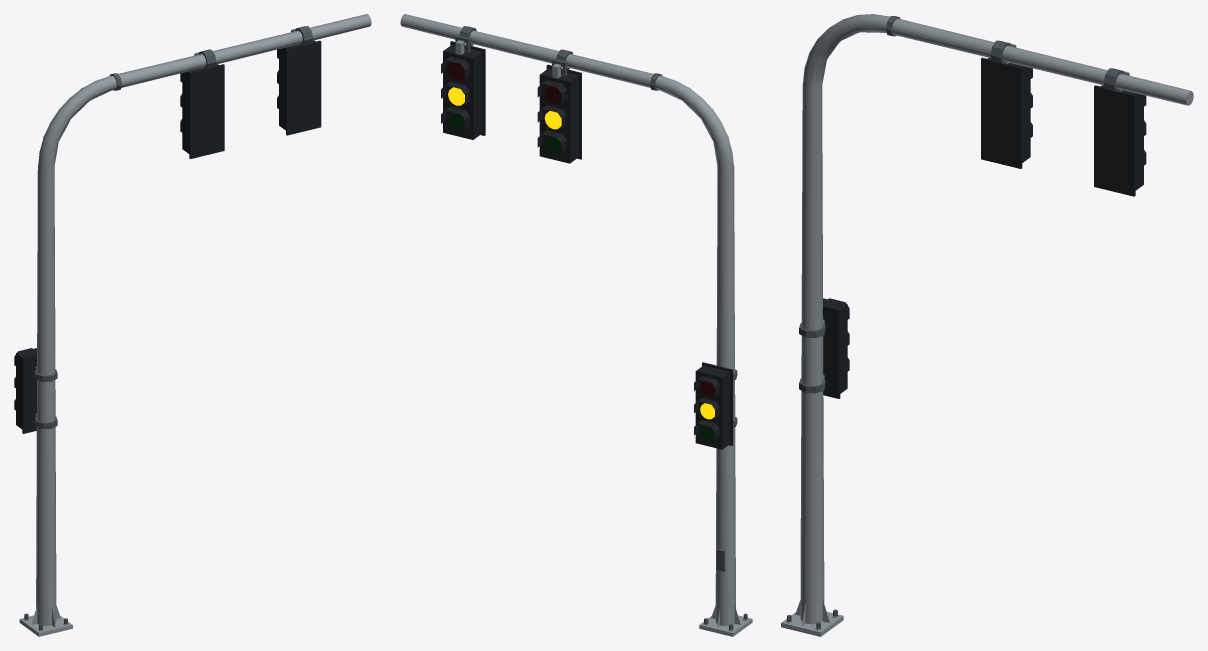
File: traffic-signal-gantry.glb
The picture shows the model from 3 angles, left to right: view 1: azimuth 30°, elevation 25°; view 2: azimuth 150°, elevation 25°; view 3: azimuth 330°, elevation 25°; orthographic projection. The views are drawn at different scales.
Parts seen in each view (by area): view 1: traffic-signal-gantry (×2); view 2: traffic-signal-gantry (×2); view 3: traffic-signal-gantry (×2).
Part boxes in pixels (x1,y1,x2,y2): traffic-signal-gantry (×2): (14, 14, 371, 636); traffic-signal-gantry (×2): (400, 14, 752, 636); traffic-signal-gantry (×2): (781, 14, 1193, 636).
Size of the model in its own units: 11.79 by 17.79 by 1.87.
